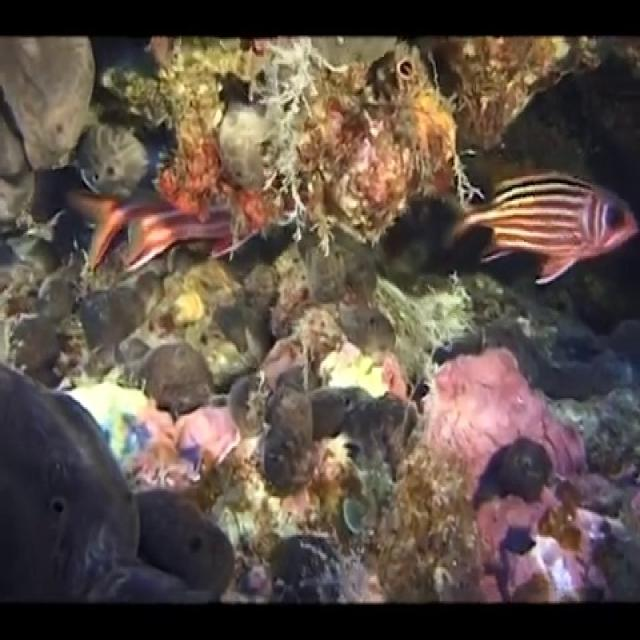Asker Baligi: (444, 168, 638, 280)
